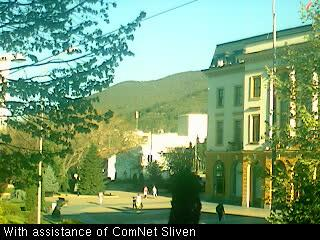person: (216, 202, 226, 223), (150, 183, 159, 200), (142, 185, 150, 200), (97, 190, 104, 205), (137, 193, 143, 208), (132, 196, 137, 210)
